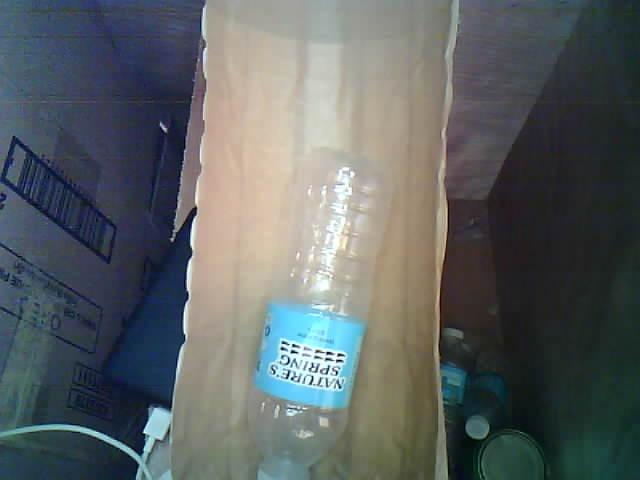small_bottle: (239, 137, 421, 480)
